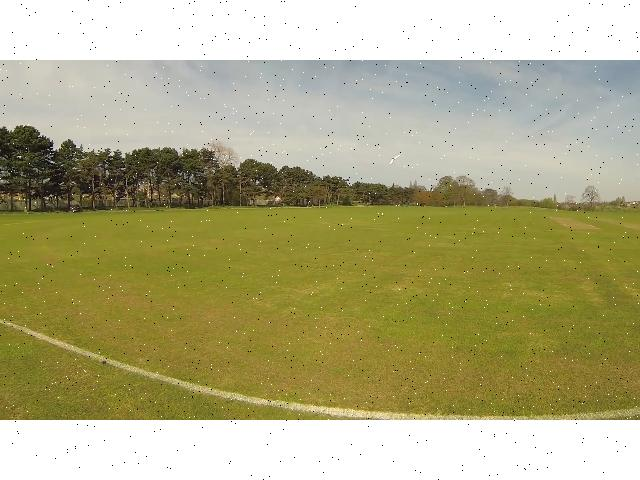Anti-Drone: (384, 151, 402, 167)
